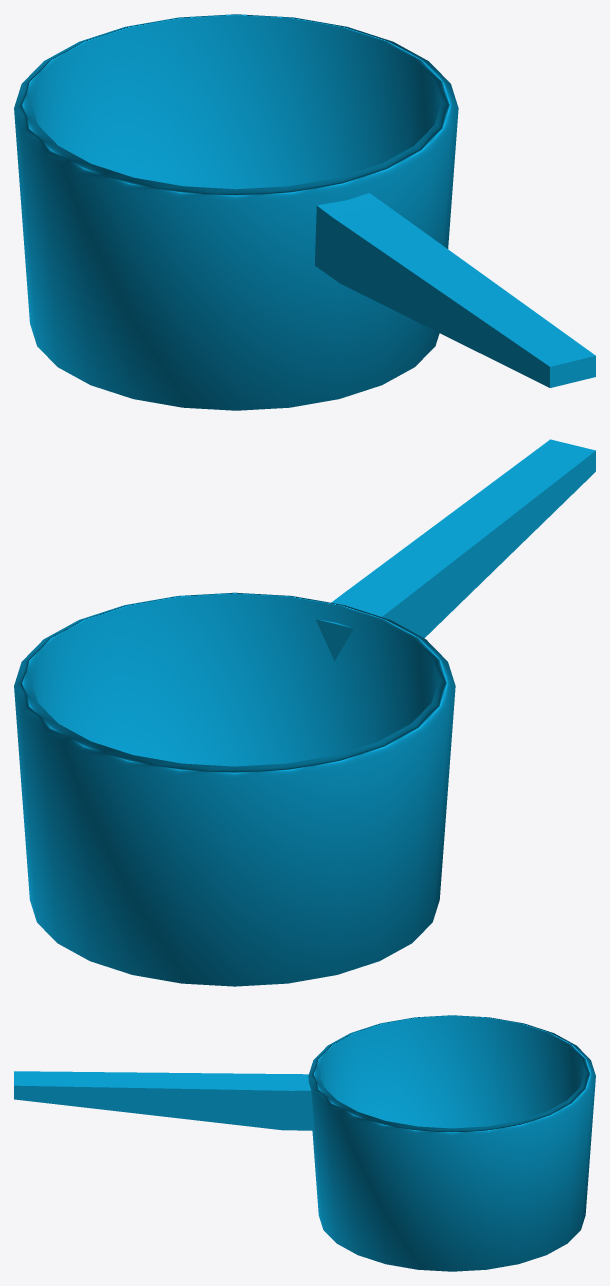
File: Pan_01_Lod1.fbx
3 views of the same model, one above another, from view 1: azimuth 30°, elevation 25°; view 2: azimuth 150°, elevation 25°; view 3: azimuth 270°, elevation 25° (orthographic). The views are drawn at different scales.
Parts seen in each view (by area): view 1: Pan_01_Lod1; view 2: Pan_01_Lod1; view 3: Pan_01_Lod1.
Boxes of the visible parts, x1,y1,x2,y2 form: Pan_01_Lod1: [14, 14, 595, 410]; Pan_01_Lod1: [14, 439, 595, 986]; Pan_01_Lod1: [14, 1015, 595, 1271].
Bounding box in the file's own units: 29.53 × 16.41 × 59.75.
